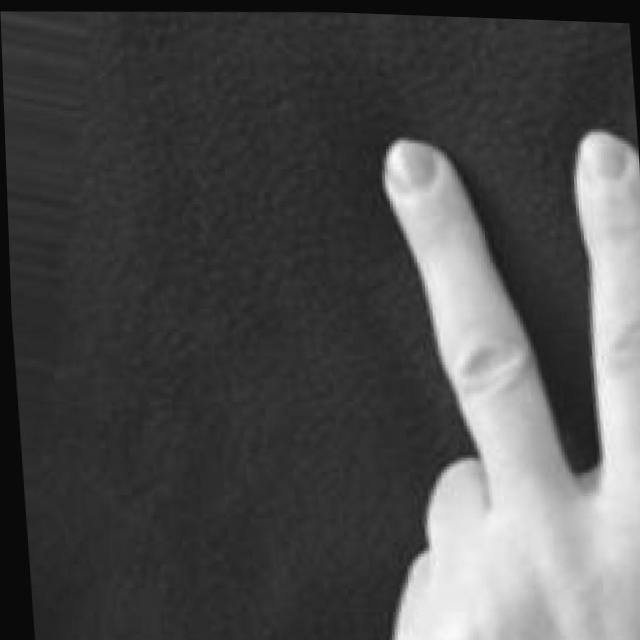V: (352, 118, 640, 640)
